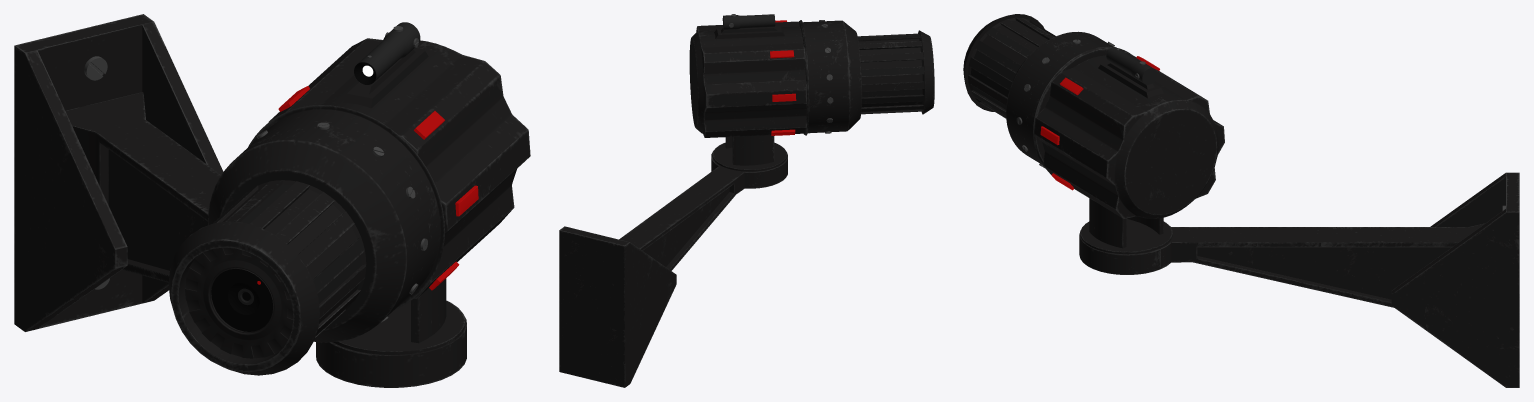
Rendered from surveillance_camera.glb.
3 renders of one model, left to right at view 1: azimuth 30°, elevation 25°; view 2: azimuth 150°, elevation 25°; view 3: azimuth 270°, elevation 25°, orthographic. The views are drawn at different scales.
Visible parts, largest first — view 1: main, Plane, Cube, bolt1; view 2: main, Plane, Cube; view 3: main, Cube, Plane.
Part boxes in pixels (left/top/right/bottom): main: left=168, top=22, right=530, bottom=375; Plane: left=14, top=14, right=223, bottom=331; Cube: left=65, top=92, right=466, bottom=387; bolt1: left=84, top=56, right=107, bottom=80; main: left=689, top=14, right=934, bottom=171; Plane: left=559, top=226, right=676, bottom=387; Cube: left=619, top=150, right=787, bottom=270; main: left=963, top=14, right=1224, bottom=253; Cube: left=1079, top=223, right=1484, bottom=307; Plane: left=1391, top=172, right=1519, bottom=387.
Bounding box in the file's own units: 4.72 × 5.37 × 8.69.
7 materials, 3 textured.
